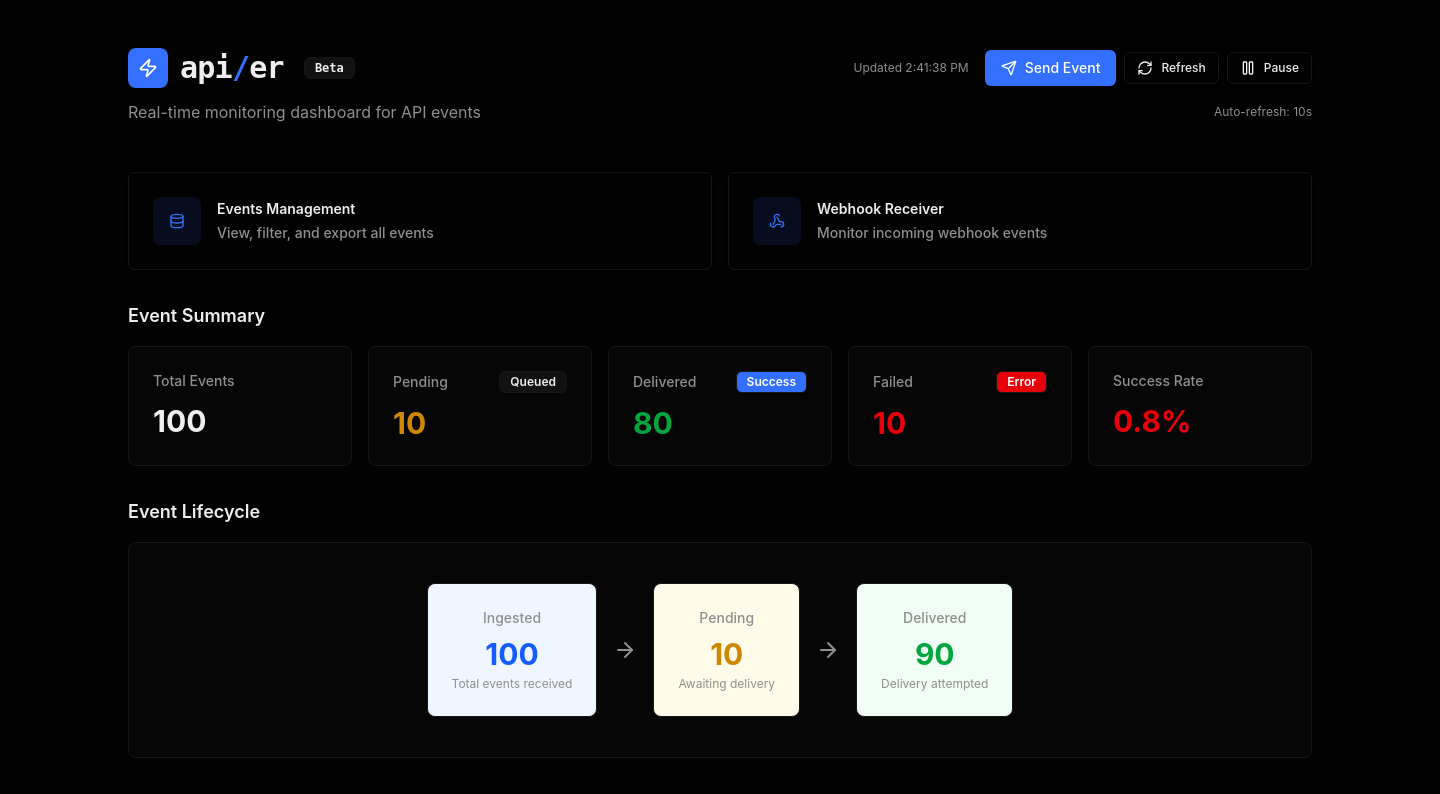
Scenario: Dashboard Auto-Refresh E2E Tests › Pause/Resume Functionality › should hide auto-refresh interval text when paused
expect the text "Auto-refresh: 10s" is shown: met, box [1214,104,1312,120]
Click the button "Pause" at (1269, 68), box [1227,52,1312,84]
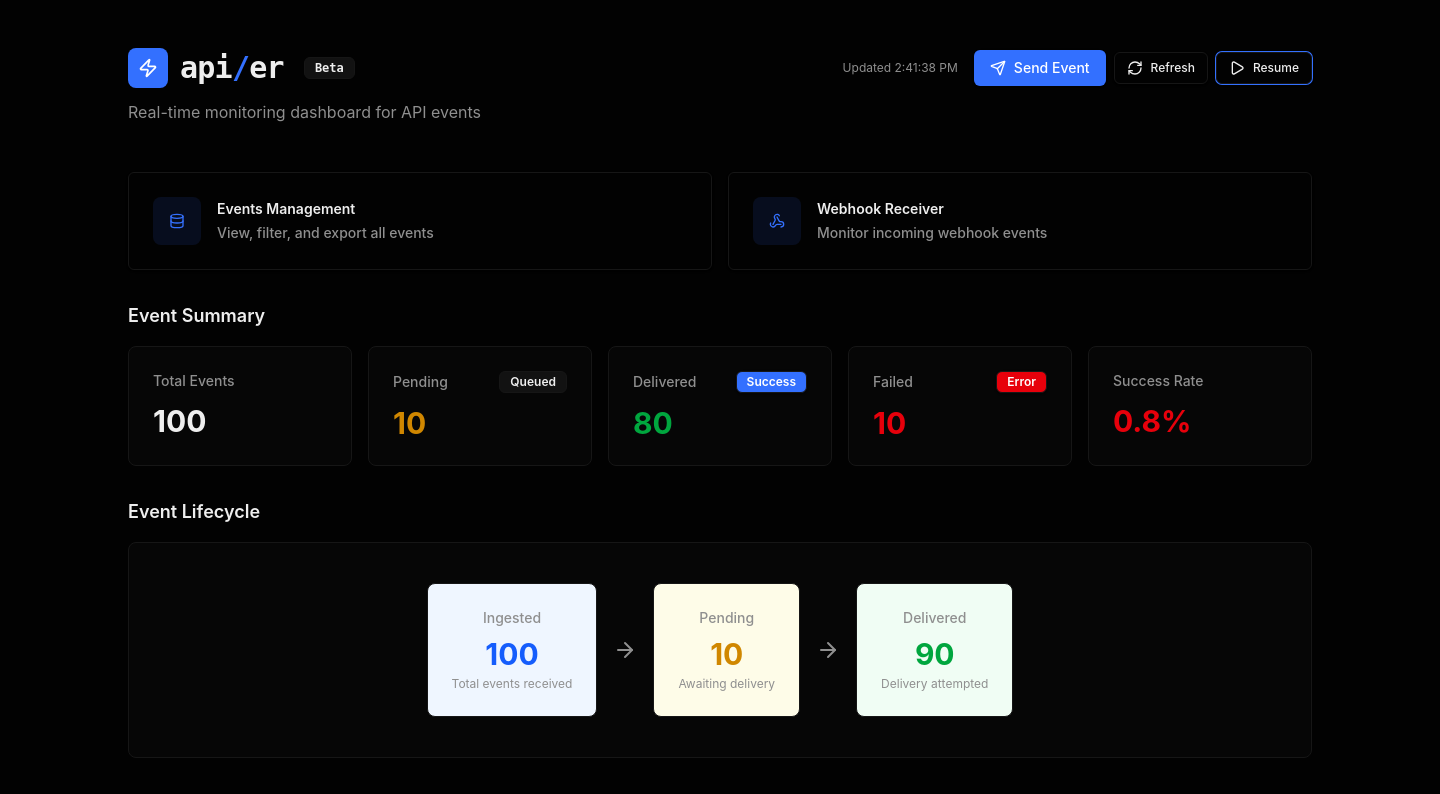
expect the text "Auto-refresh: 10s" is gone: met
